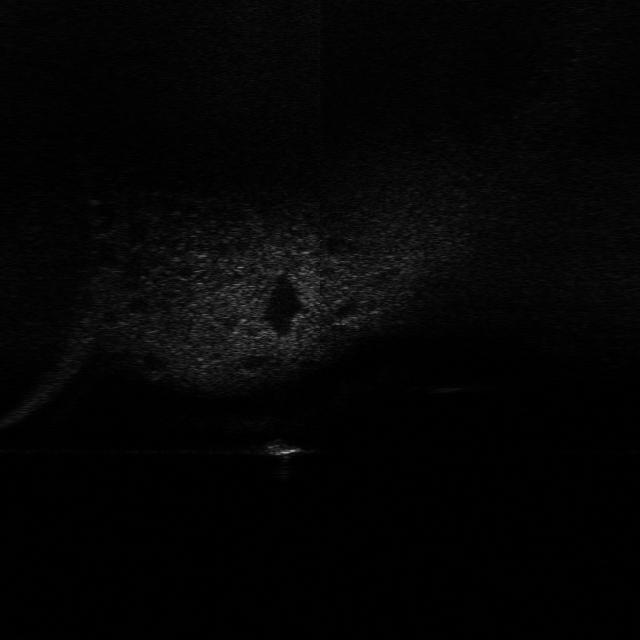cube: (250, 435, 310, 460)
